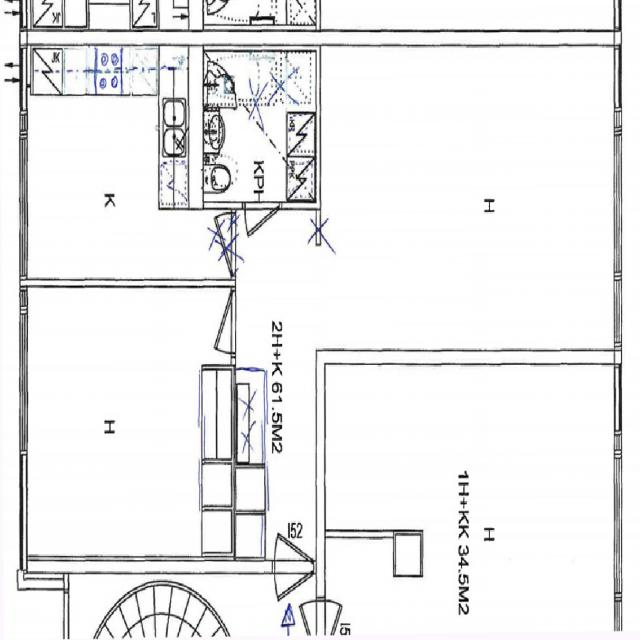door: (274, 496, 314, 574), (274, 561, 314, 637), (190, 288, 236, 354), (245, 202, 279, 265)
